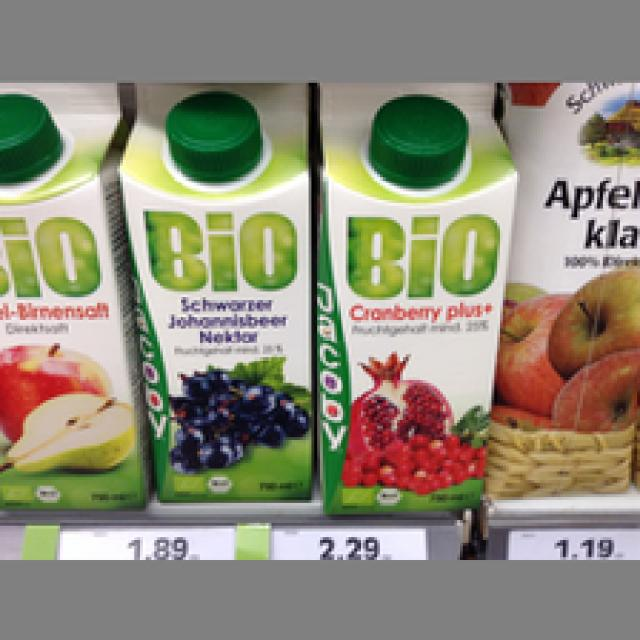groceries: (312, 83, 517, 511), (115, 80, 312, 503), (0, 80, 149, 509)
